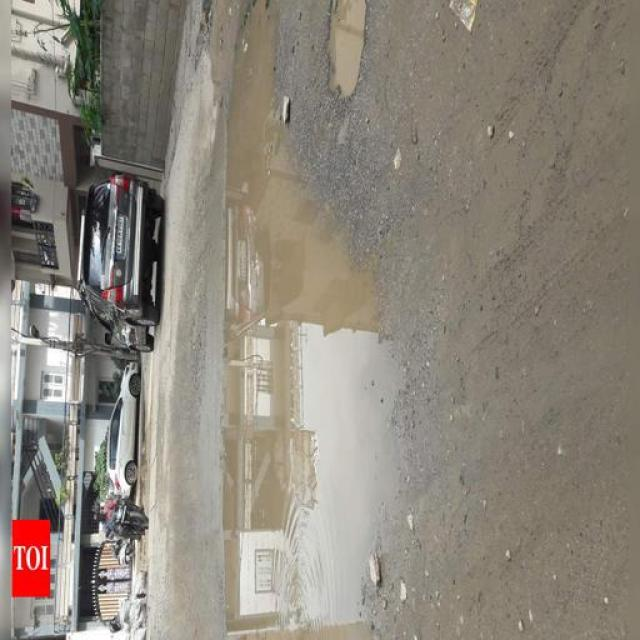puddle: (228, 53, 311, 640), (277, 219, 351, 625)
